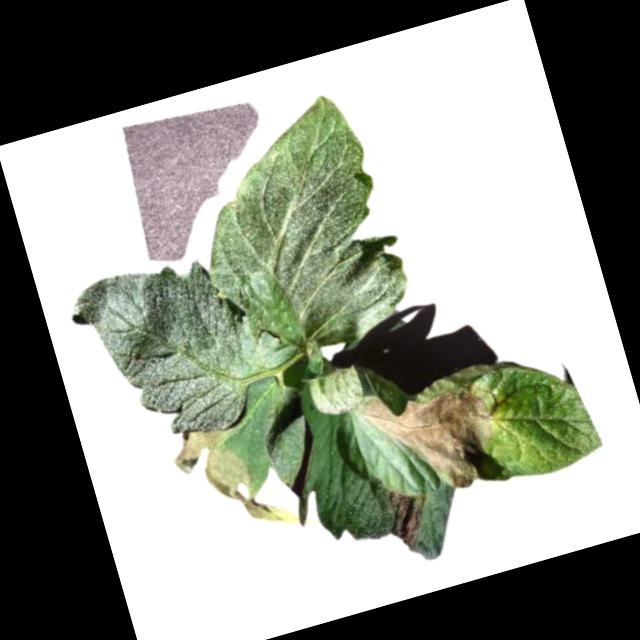Late_blight: (353, 364, 507, 511), (163, 409, 302, 556), (381, 480, 440, 551)
healthy: (166, 84, 420, 376), (61, 228, 321, 462)
